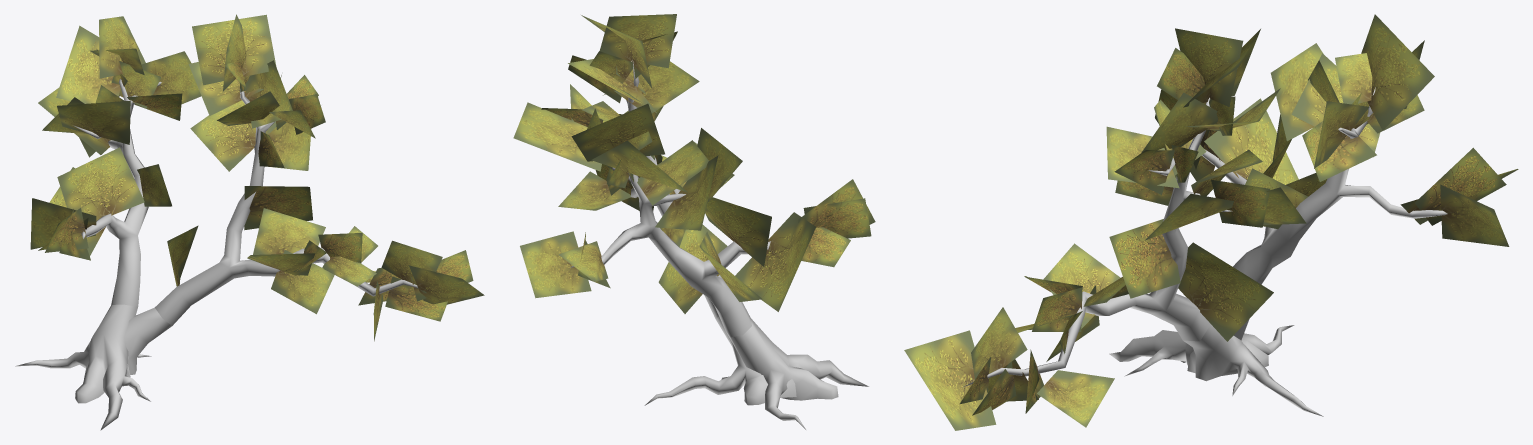
File: JiaYeSiWai1_ShuHuang_6.FBX
3 renders of one model, left to right at view 1: azimuth 30°, elevation 25°; view 2: azimuth 150°, elevation 25°; view 3: azimuth 270°, elevation 25°, orthographic. The views are drawn at different scales.
Visible parts, largest first — view 1: JiaYeSiWai1_ShuHuang_6a, JiaYeSiWai1_ShuHuang_6b; view 2: JiaYeSiWai1_ShuHuang_6a, JiaYeSiWai1_ShuHuang_6b; view 3: JiaYeSiWai1_ShuHuang_6a, JiaYeSiWai1_ShuHuang_6b.
Boxes of the visible parts, x1,y1,x2,y2 form: JiaYeSiWai1_ShuHuang_6a: [30, 14, 484, 341]; JiaYeSiWai1_ShuHuang_6b: [15, 79, 417, 430]; JiaYeSiWai1_ShuHuang_6a: [513, 14, 875, 313]; JiaYeSiWai1_ShuHuang_6b: [570, 60, 868, 429]; JiaYeSiWai1_ShuHuang_6a: [904, 14, 1518, 430]; JiaYeSiWai1_ShuHuang_6b: [962, 87, 1447, 416].
Size of the model in its own units: 1375 by 1236 by 1593.
